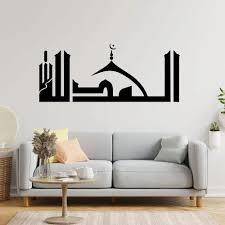carpet: (5, 210, 223, 225)
pillow: (157, 135, 188, 164), (54, 140, 89, 162)
sofa: (18, 130, 207, 207)
table: (33, 176, 98, 223)
vase: (53, 167, 95, 180), (209, 132, 222, 151)
wall art: (39, 42, 177, 102)
